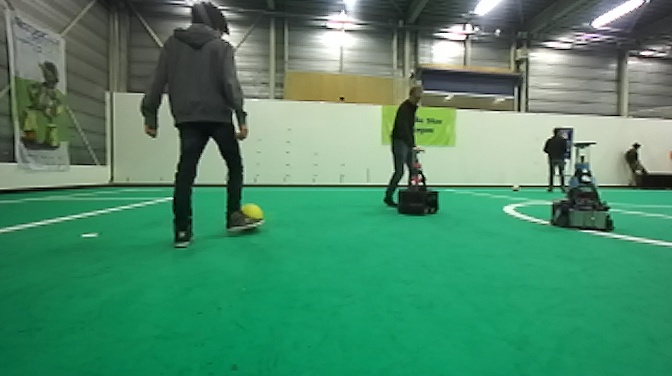ball: (238, 204, 267, 225), (510, 182, 522, 193)
human: (138, 1, 265, 252), (381, 84, 432, 210), (543, 127, 573, 193), (624, 140, 649, 187)
robot: (549, 139, 616, 233), (397, 147, 441, 216)
